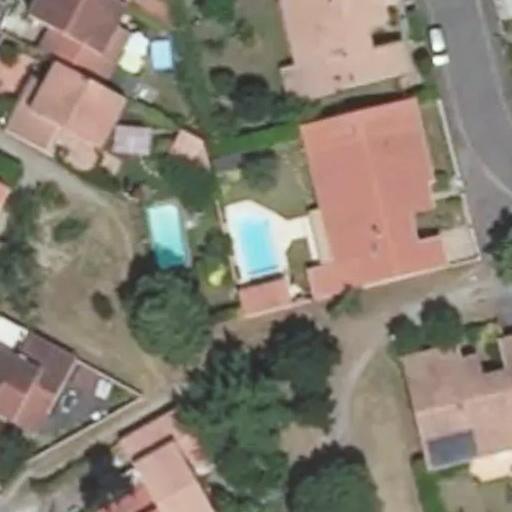pool: (232, 211, 279, 267)
